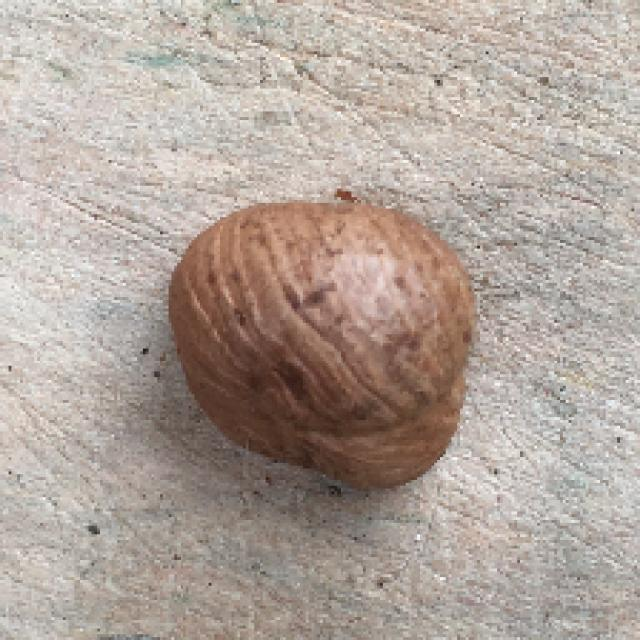hazelnut: (163, 205, 482, 491)
